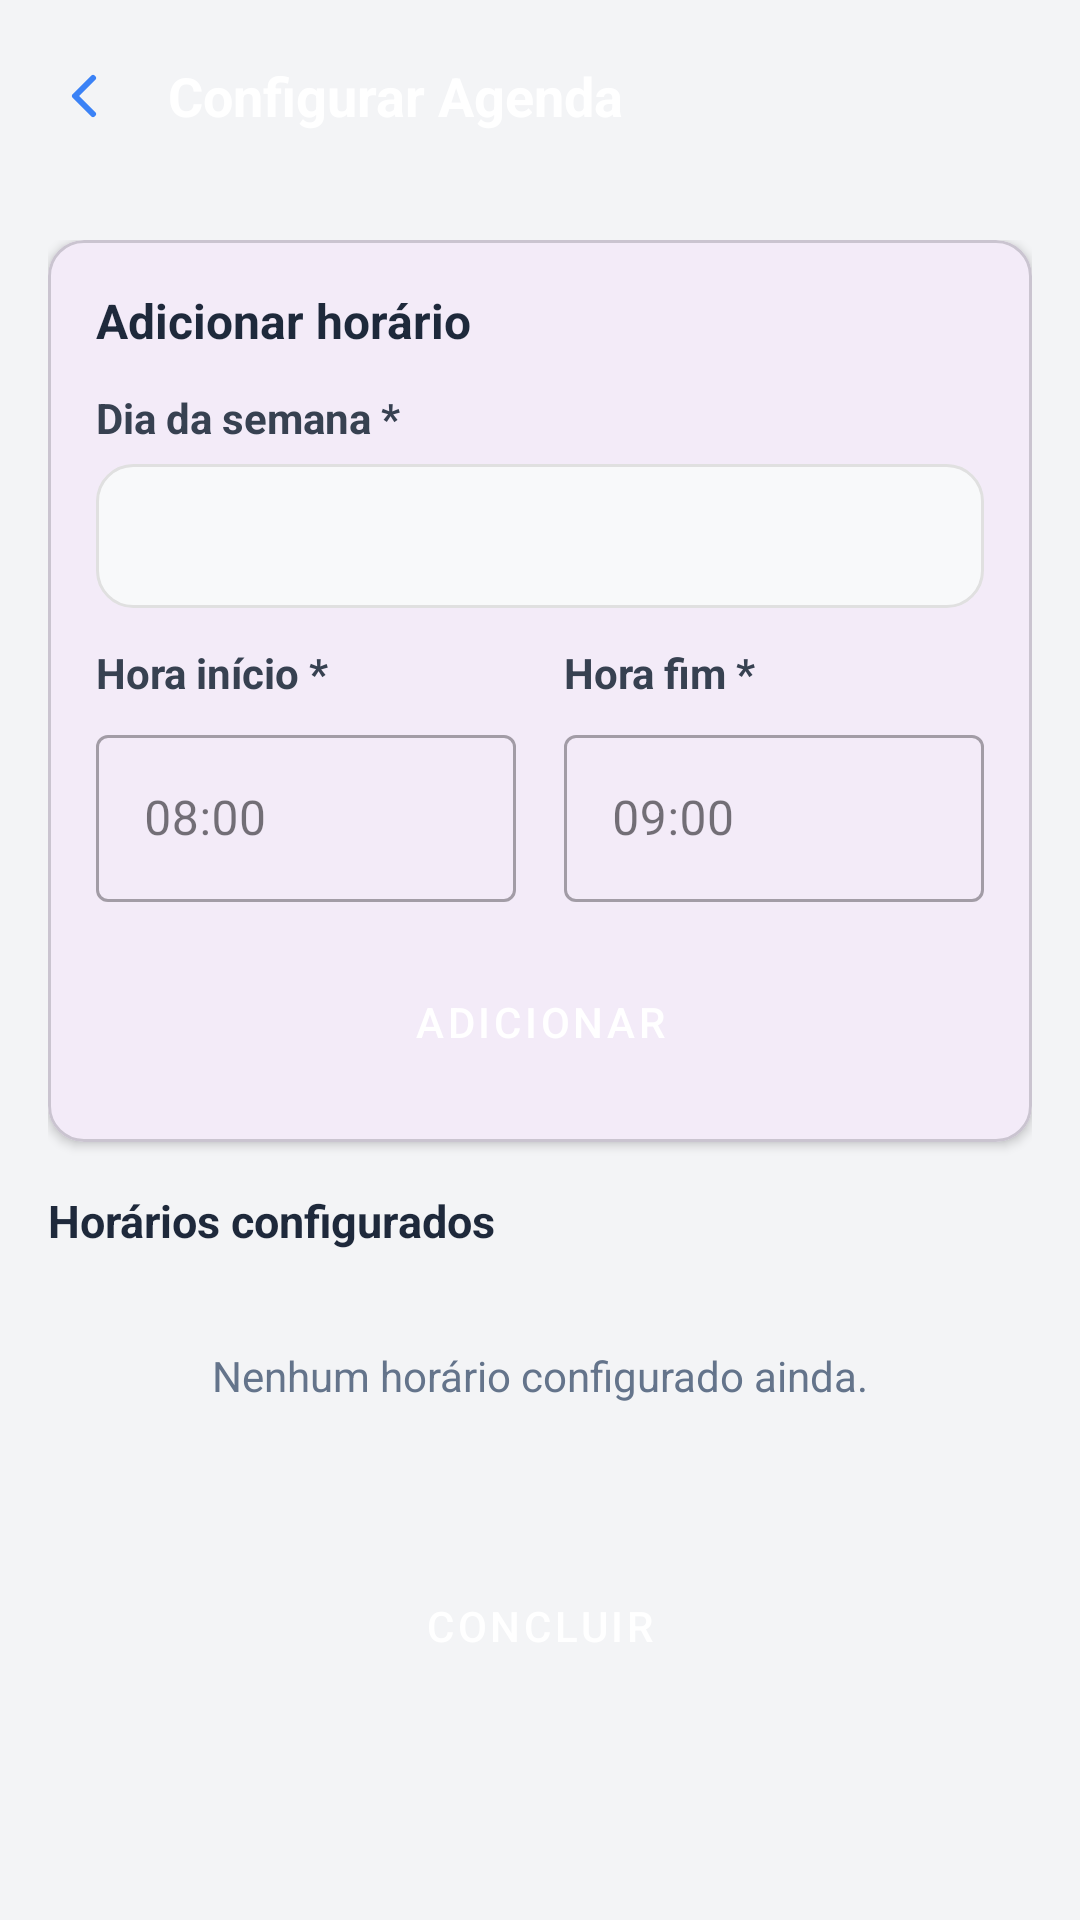

Where icons sit on this 1080×1920 app screen, as (x1, y1, x2, y2):
Voltar: (72, 75, 96, 117)
